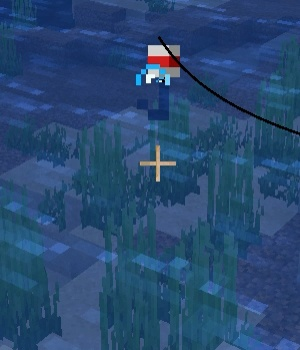up: (139, 40, 188, 121)
